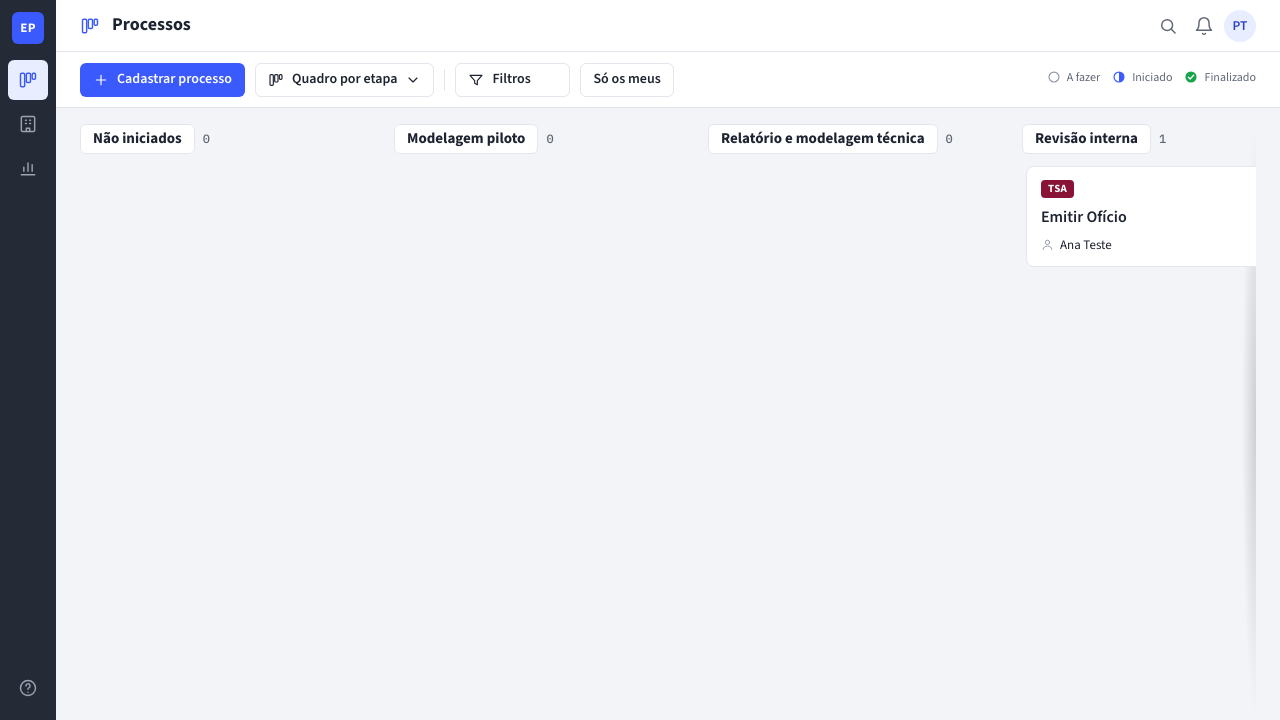
Test case: por setor o cartão não leva selo: o nome do processo fica no corpo, como por etapa
Click the button "Quadro por etapa".
click(345, 80)  # box [255,62,434,96]
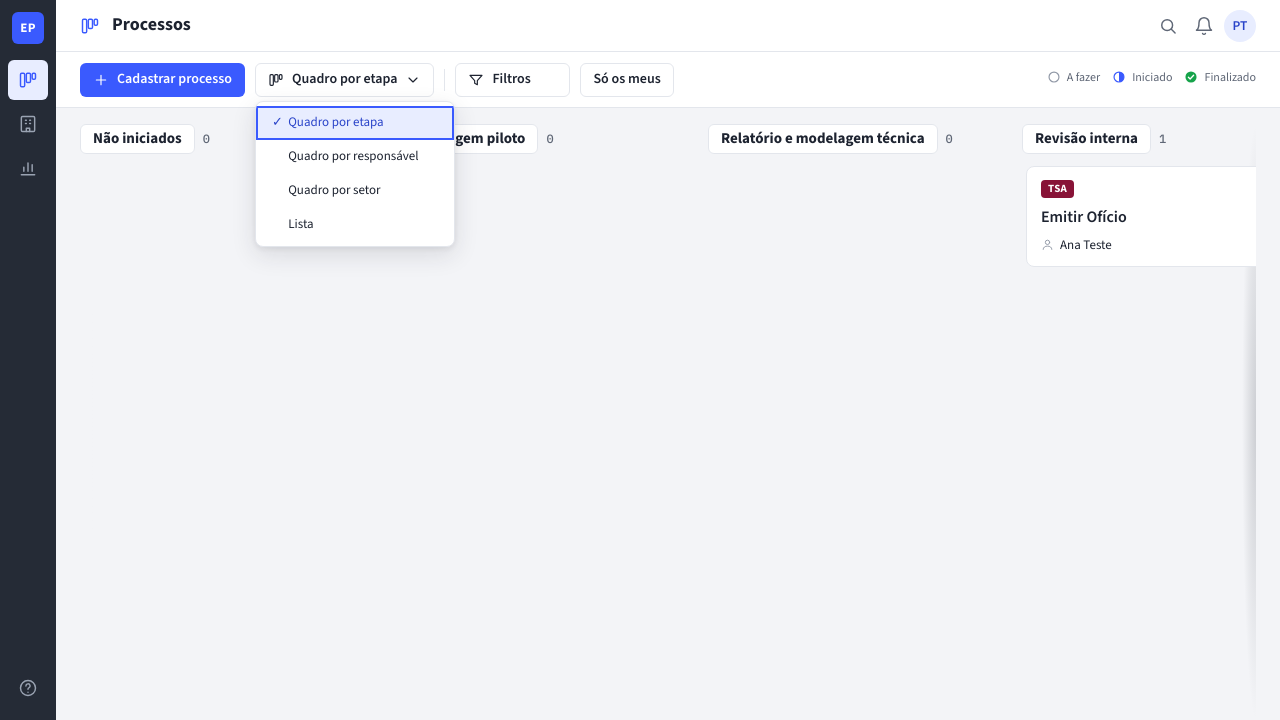
Click the menu item "Quadro por setor".
click(355, 190)  # box [256,174,454,208]
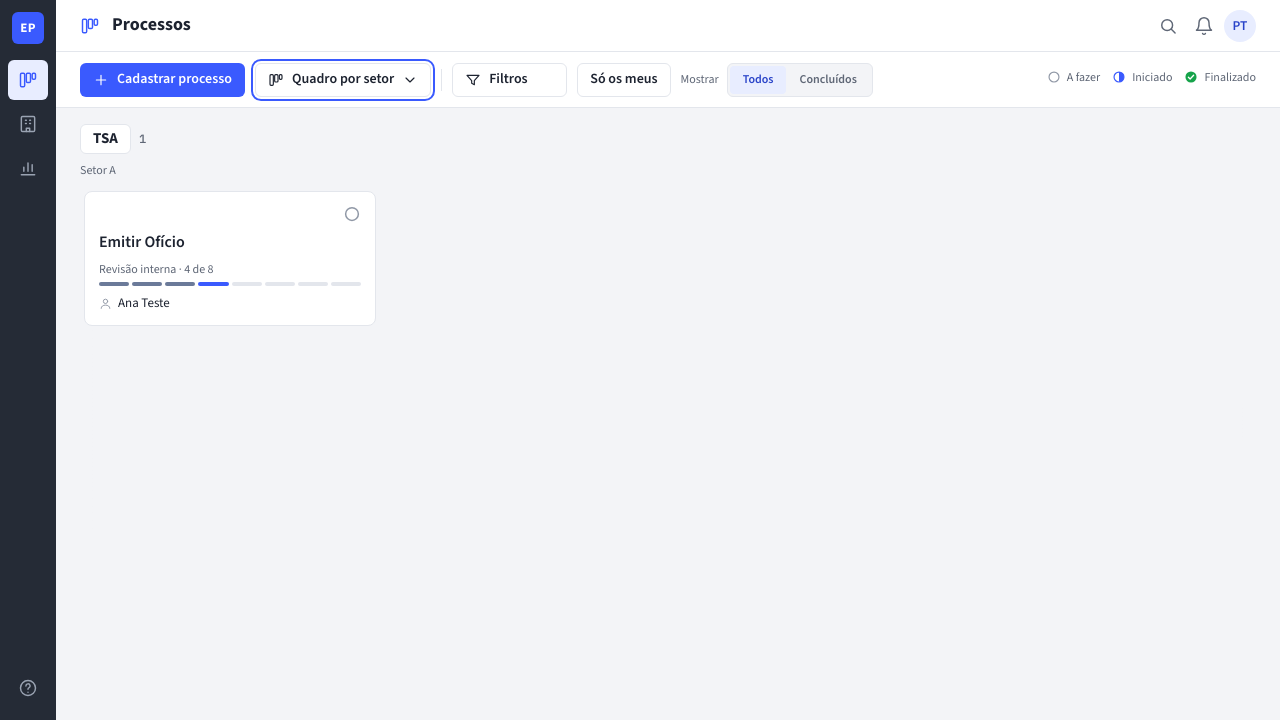
Expected: the text "Emitir Ofício" is shown, [99,231,185,253]
Expected: the picture with class "selo-do-setor" is gone
